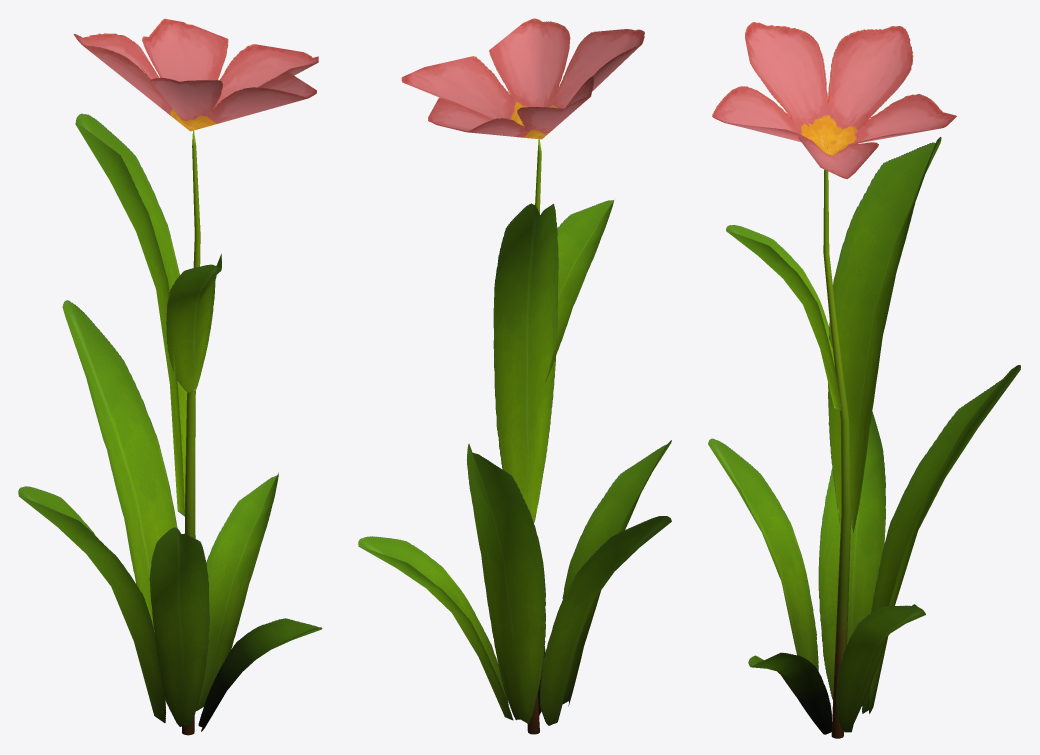
Rendered from flower_a_single.glb.
3 views of the same model, side by side, from view 1: azimuth 30°, elevation 25°; view 2: azimuth 150°, elevation 25°; view 3: azimuth 270°, elevation 25° (orthographic). The views are drawn at different scales.
Parts seen in each view (by area): view 1: Flower_3_Single; view 2: Flower_3_Single; view 3: Flower_3_Single.
Part boxes in pixels (x1,y1,x2,y2): Flower_3_Single: (18,19,322,735); Flower_3_Single: (358,18,671,734); Flower_3_Single: (708,22,1020,738).
Size of the model in its own units: 0.9067 by 2.07 by 0.8774.
2 materials, 2 textured.
